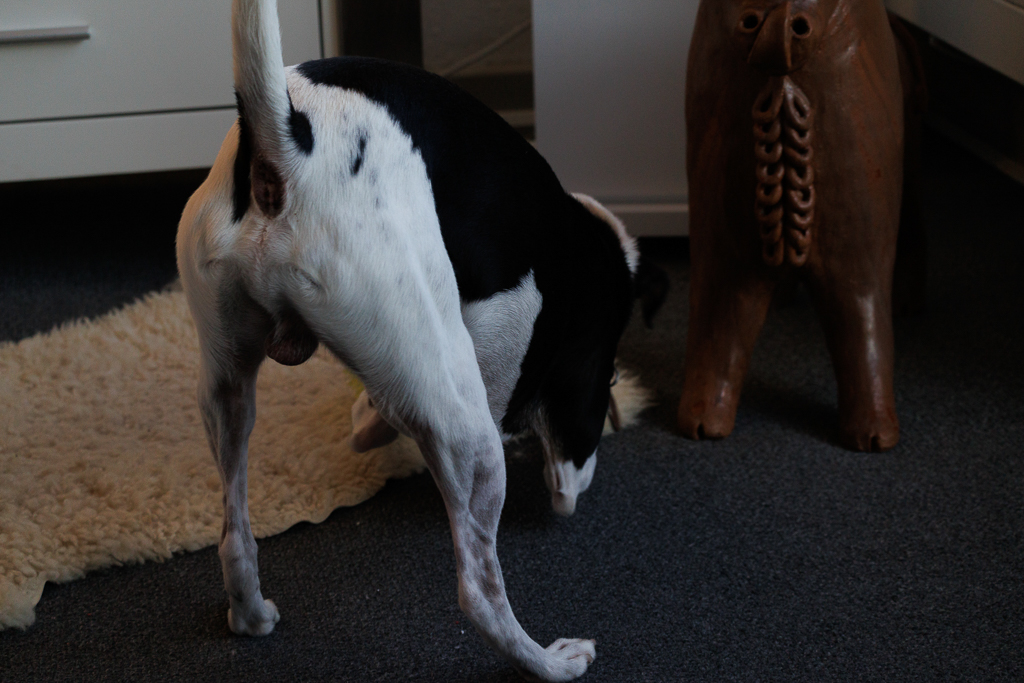Cattle: (663, 0, 926, 461)
Dog: (166, 0, 682, 683)
